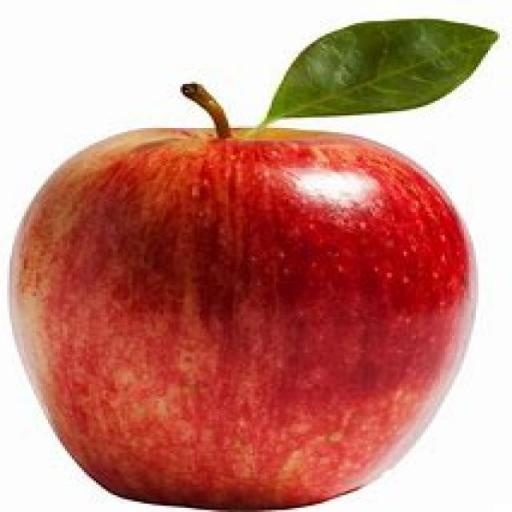fruit: (11, 86, 474, 509)
